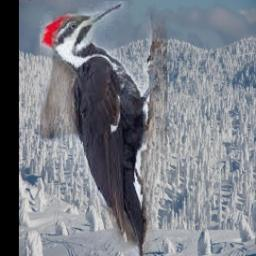Woodpecker: (41, 2, 168, 256)
